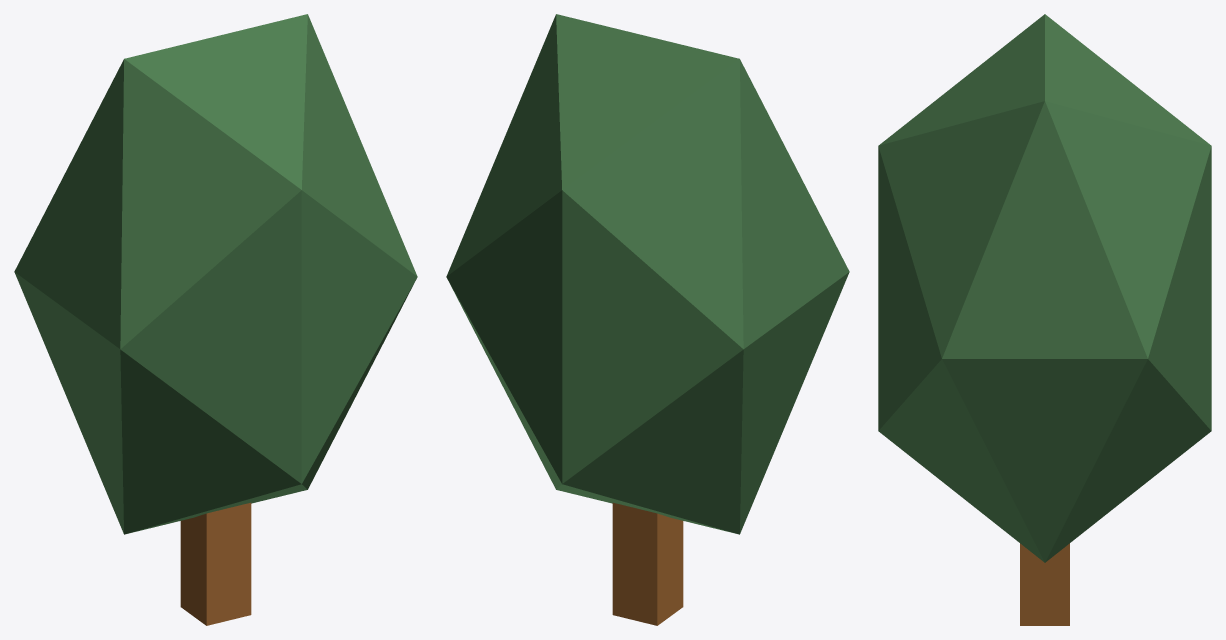
Rendered from tree.glb.
The picture shows the model from 3 angles, left to right: view 1: azimuth 30°, elevation 25°; view 2: azimuth 150°, elevation 25°; view 3: azimuth 270°, elevation 25°; orthographic projection. The views are drawn at different scales.
Bounding box in the file's own units: 1.66 × 3.07 × 1.66.
